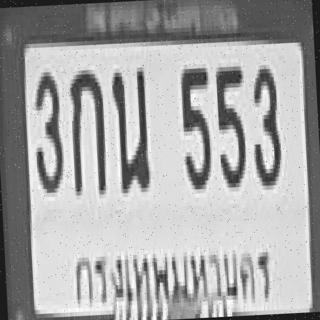A01: (68, 65, 106, 192)
A25: (110, 63, 150, 190)
N03: (248, 60, 281, 186), (30, 67, 64, 189)
N05: (178, 64, 212, 186), (214, 62, 248, 184)
P04: (60, 227, 292, 320)
